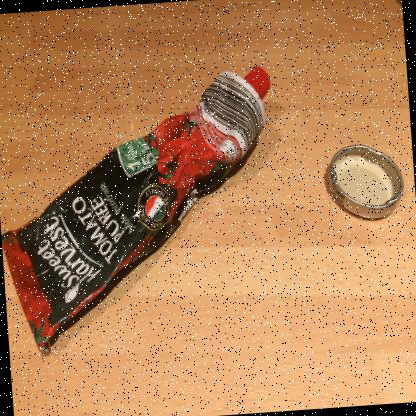Metal bottle cap: (329, 145, 404, 219)
Squeezable tube: (1, 67, 271, 354)
